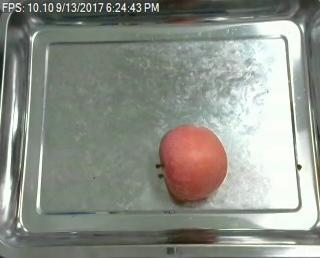apple: (158, 125, 227, 200)
